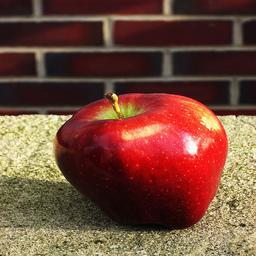apple: (52, 93, 228, 233)
